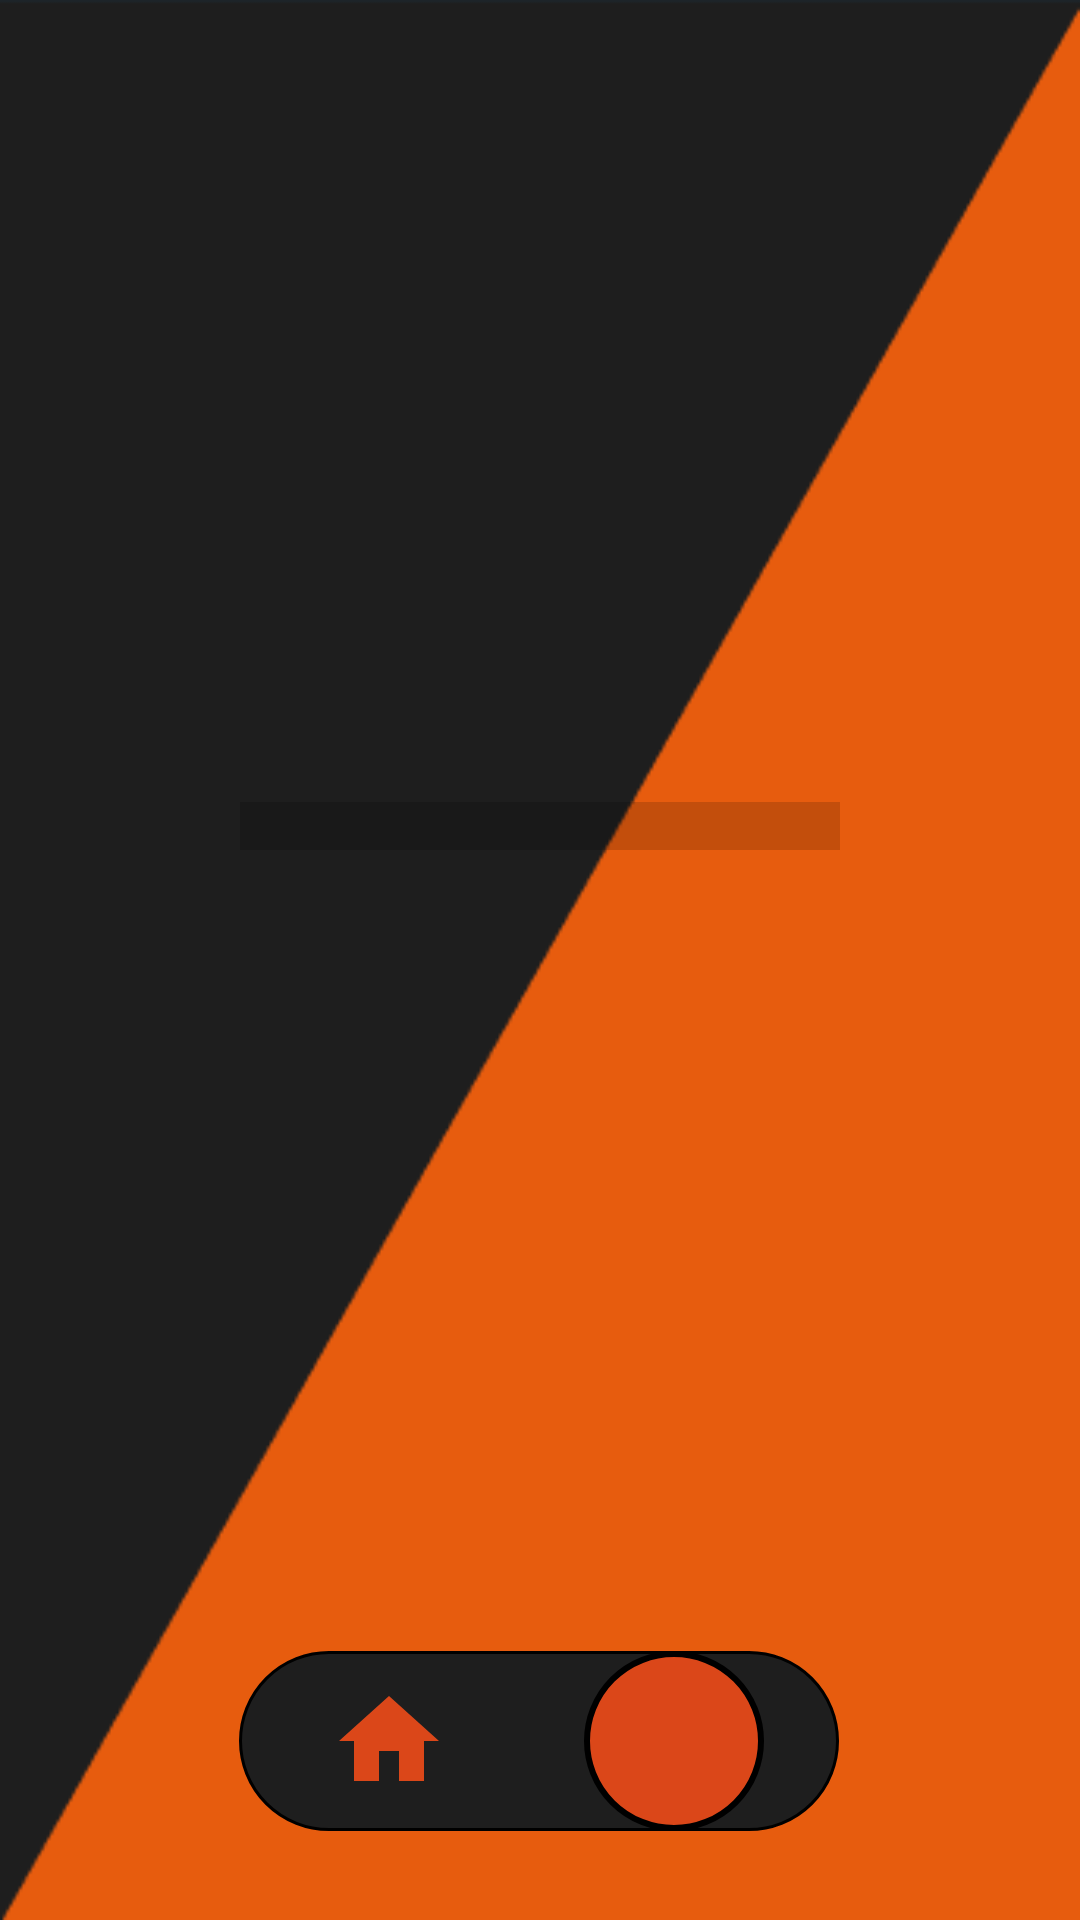

Icon click points for this 1080 x 1920 phone screenshot, format [x,y]:
home: [389,1741]
